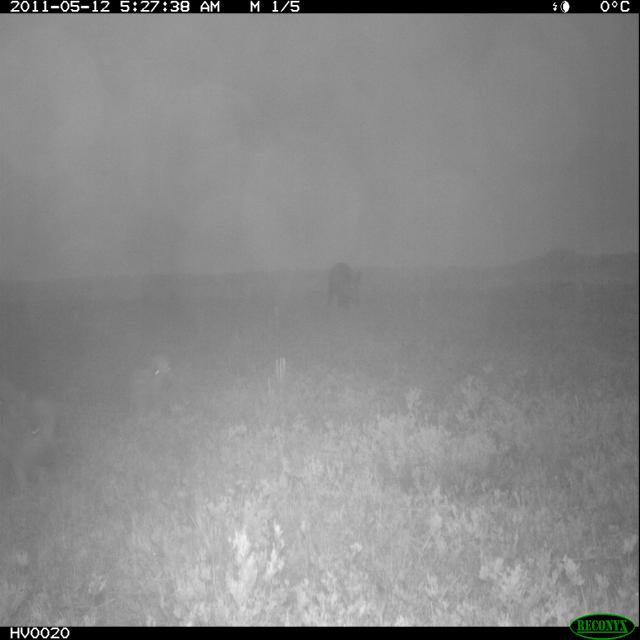boar: (313, 248, 369, 316)
